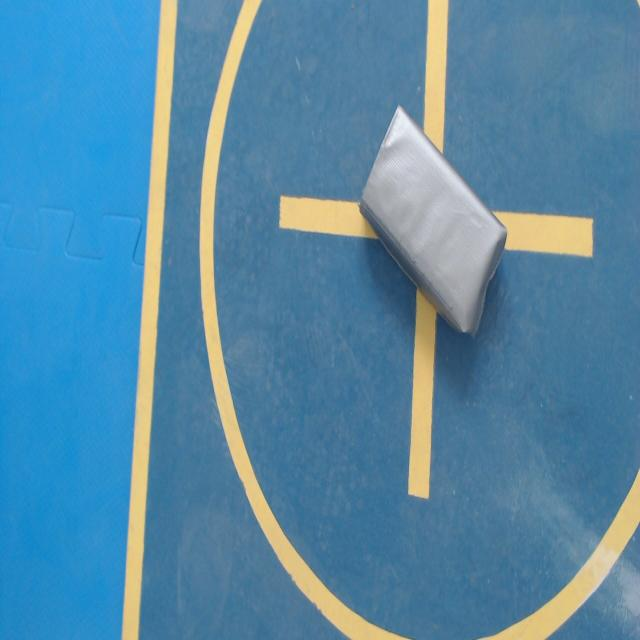lipo: (360, 106, 507, 333)
